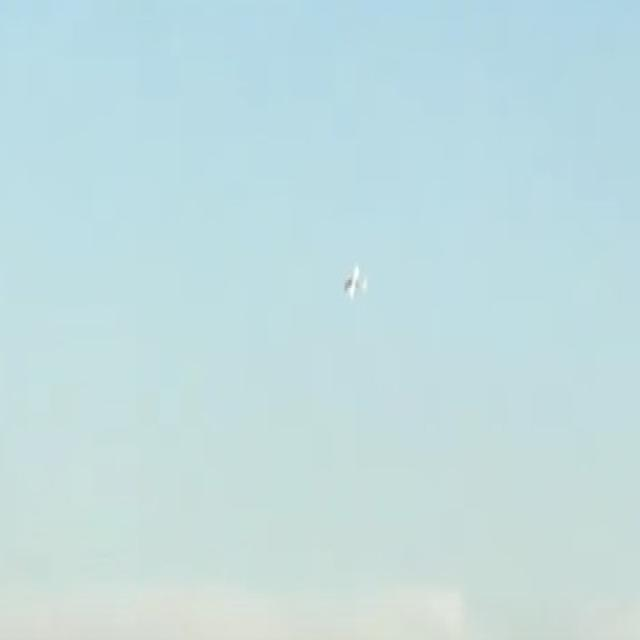iha: (341, 265, 369, 309)
